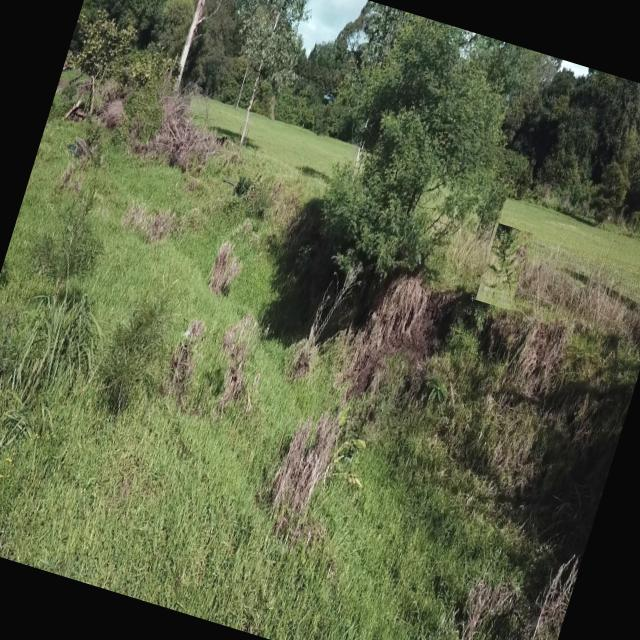Mysore-Thorn-Weed: (474, 223, 532, 310)
